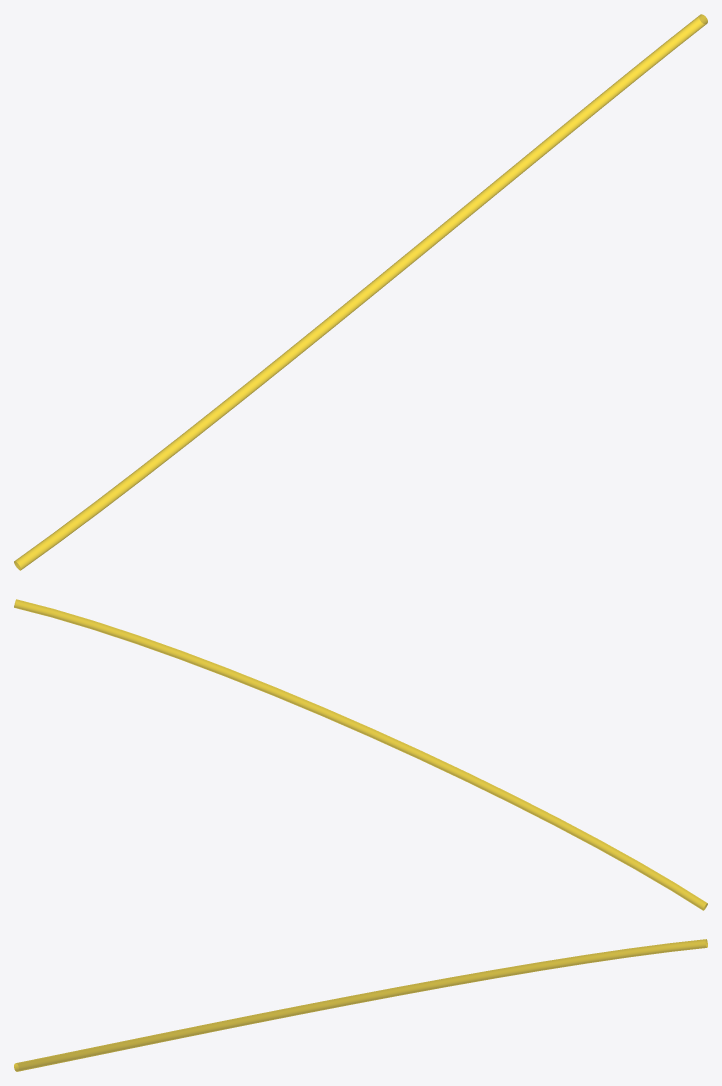
The model's file is Event_100608114_track_139.fbx.
3 views of the same model, one above another, from view 1: azimuth 30°, elevation 25°; view 2: azimuth 150°, elevation 25°; view 3: azimuth 330°, elevation 25° (orthographic). The views are drawn at different scales.
Visible parts, largest first — view 1: Model; view 2: Model; view 3: Model.
Boxes of the visible parts, left/top/right/bottom form: Model: left=14, top=14, right=707, bottom=570; Model: left=14, top=599, right=707, bottom=910; Model: left=14, top=939, right=707, bottom=1071.
Size of the model in its own units: 3.2 by 1.1 by 0.7678.
